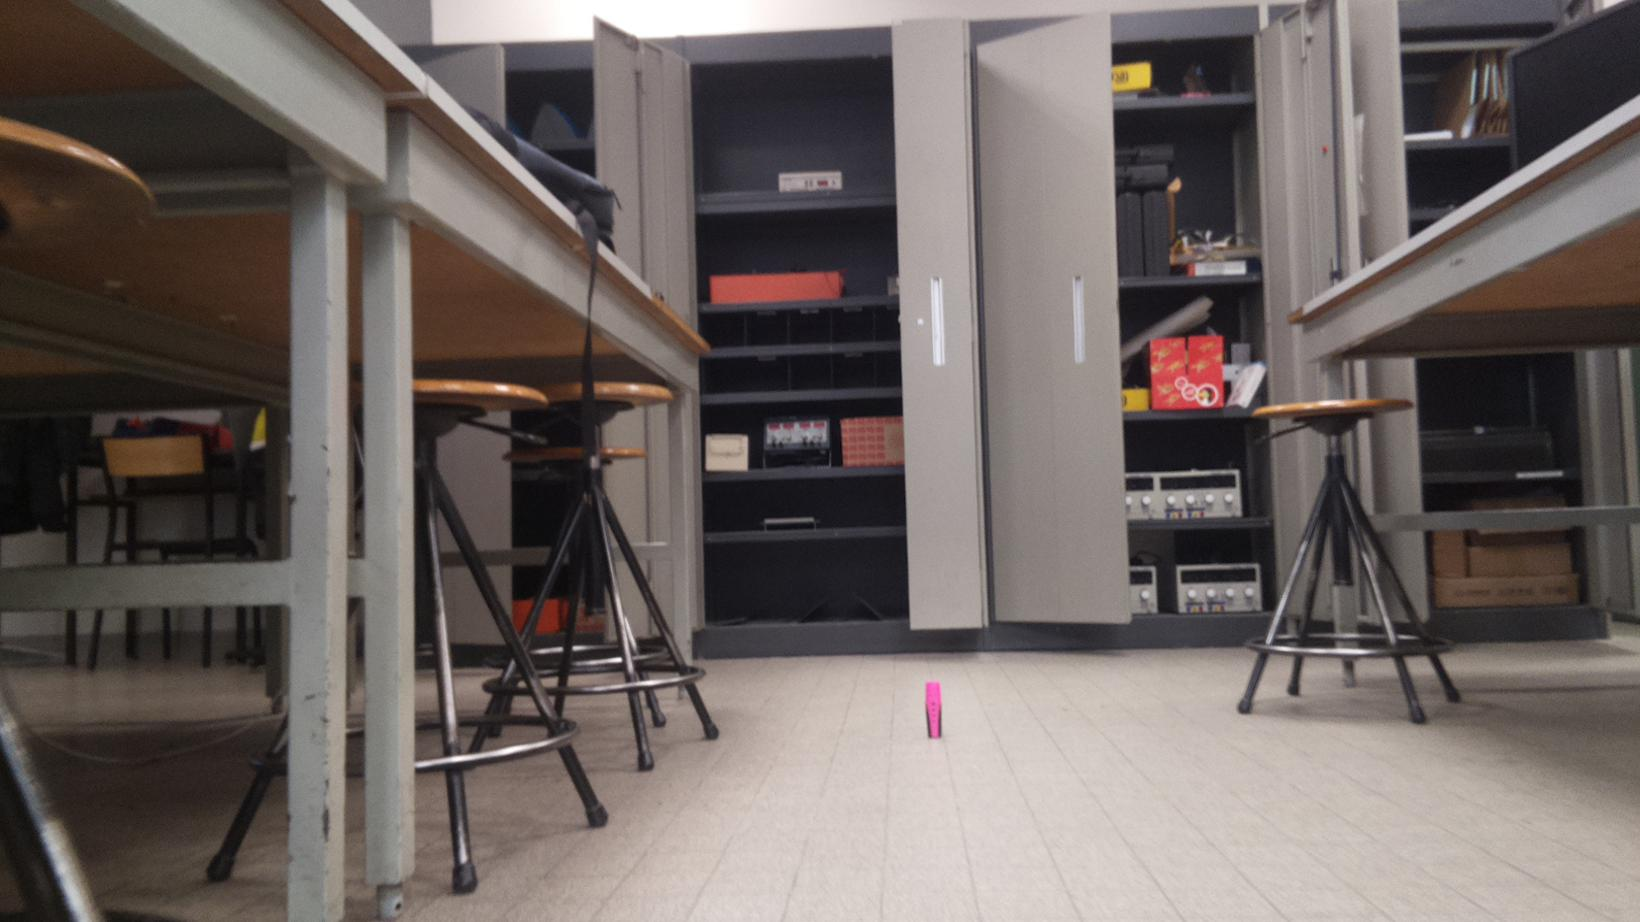small: (922, 680, 946, 740)
